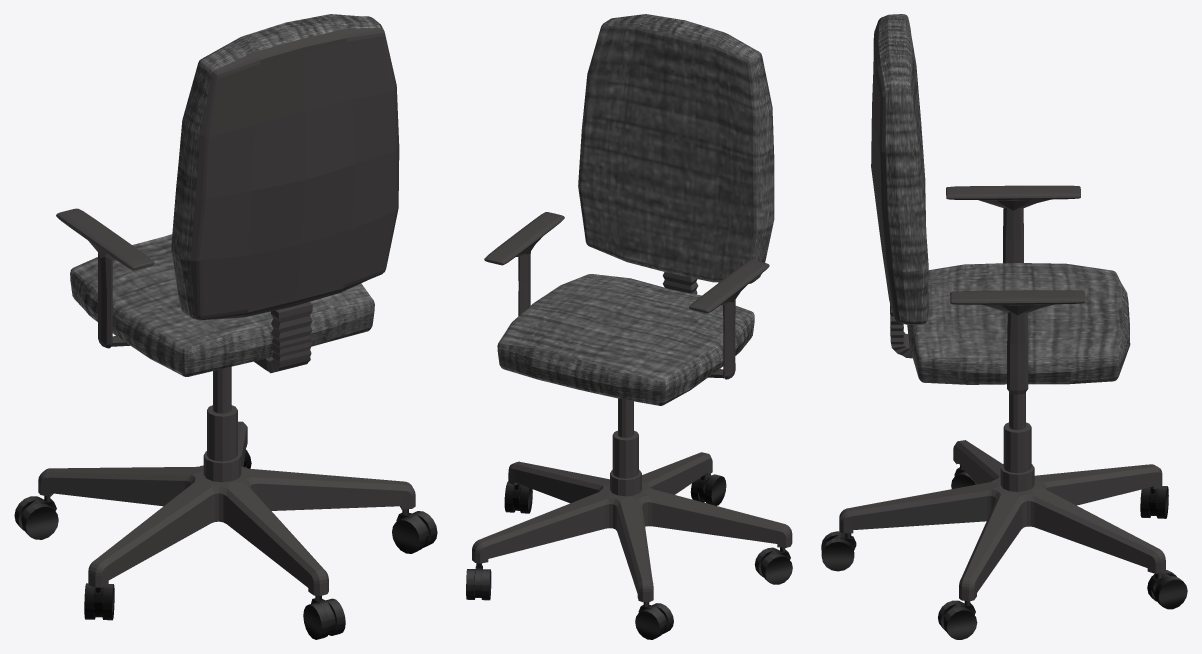
Rendered from OFFICE_CHAIR_01.fbx.
3 views of the same model, side by side, from view 1: azimuth 30°, elevation 25°; view 2: azimuth 150°, elevation 25°; view 3: azimuth 270°, elevation 25° (orthographic). The views are drawn at different scales.
Visible parts, largest first — view 1: OFFICE_CHAIR_01; view 2: OFFICE_CHAIR_01; view 3: OFFICE_CHAIR_01.
Boxes of the visible parts, x1=… form: OFFICE_CHAIR_01: x1=14, y1=14, x2=437, y2=639; OFFICE_CHAIR_01: x1=466, y1=14, x2=792, y2=639; OFFICE_CHAIR_01: x1=821, y1=14, x2=1187, y2=639.
Bounding box in the file's own units: 80.92 × 132 × 83.05.
